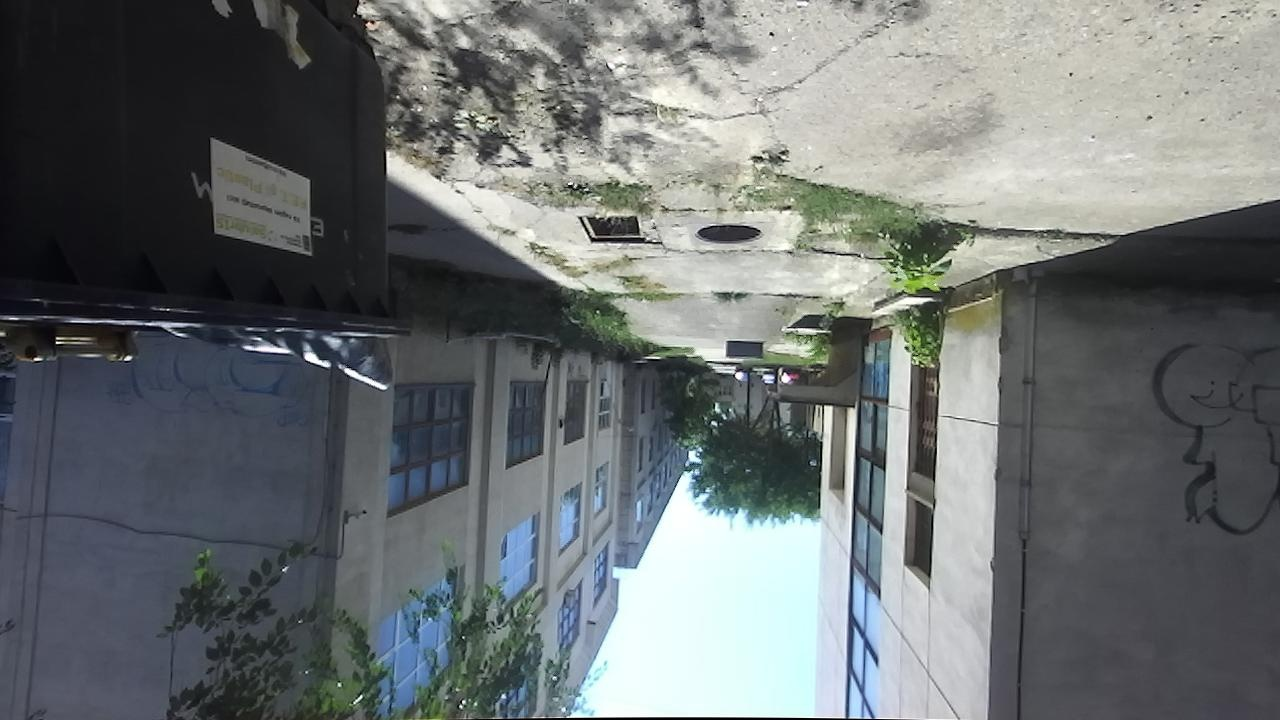drain: (574, 214, 647, 248), (694, 222, 766, 247)
